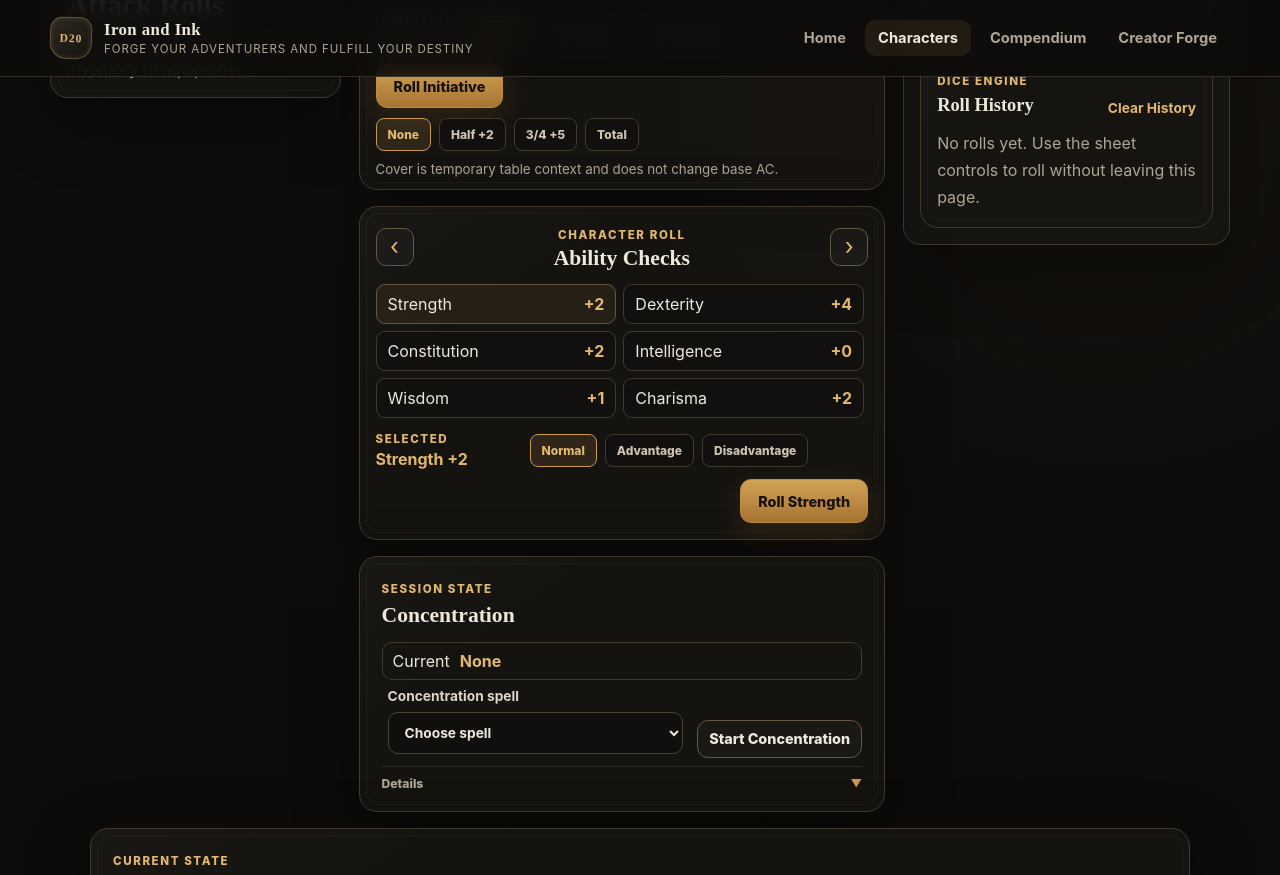
Test: PLAY UI stabilization checkpoint › K uses existing advantage keep-high behavior for Character Quick Roll
The image size is (1280, 875).
(page scrolled)
Click the button "Advantage": (649, 451) top-left (605, 434), bottom-right (694, 467)
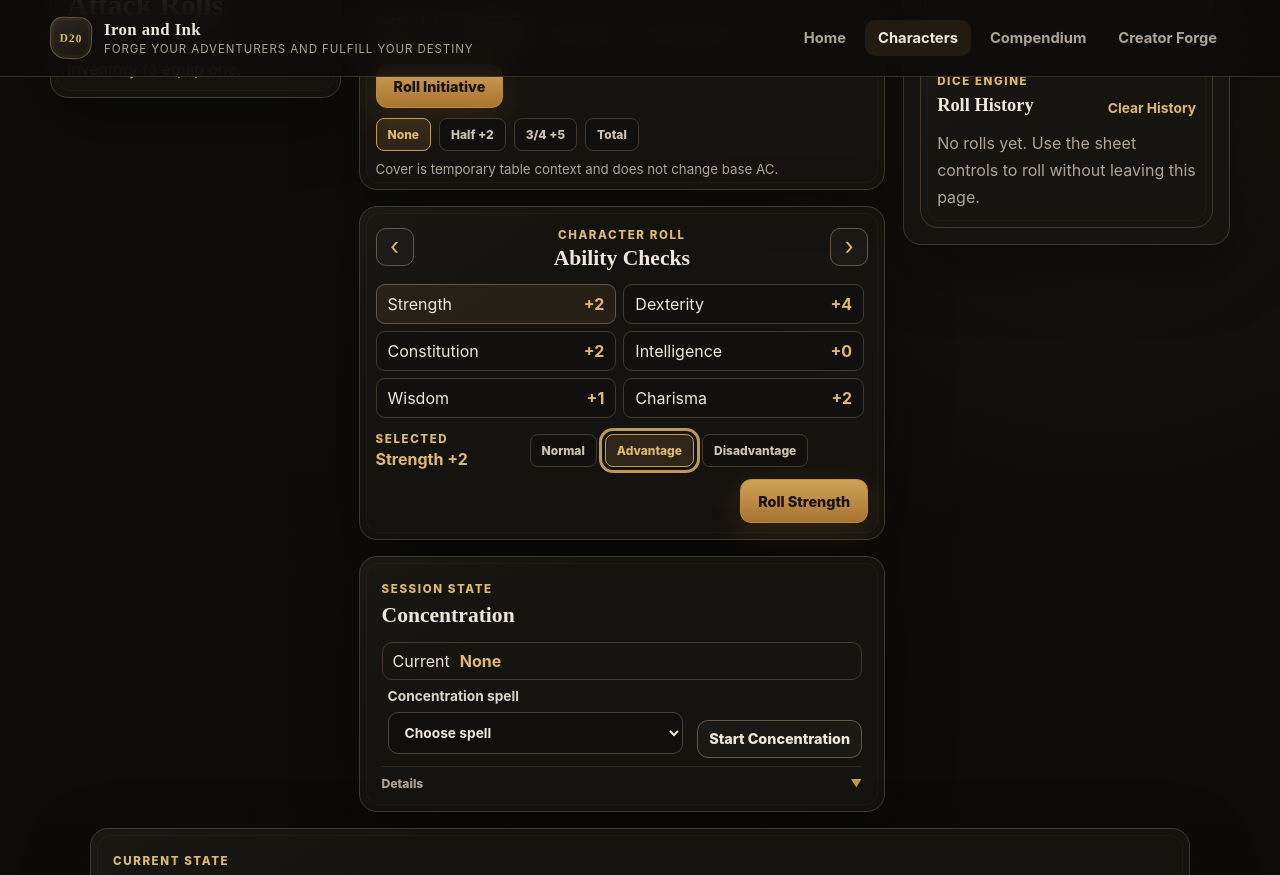
Click the button "Roll Strength": (804, 501) top-left (740, 479), bottom-right (868, 523)
(page scrolled)
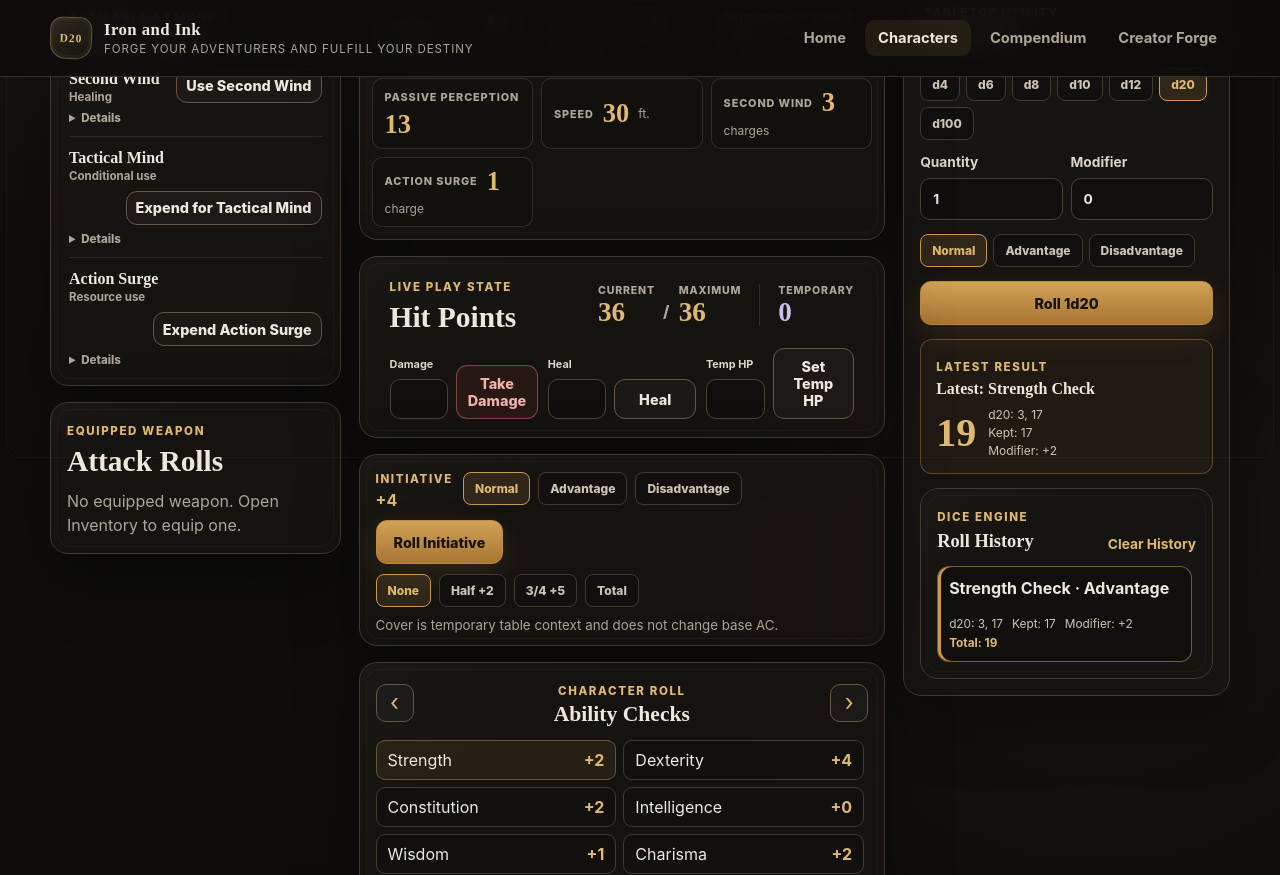
Result: the element "Latest: Strength Check" is shown at top-left (920, 339), bottom-right (1213, 474)
Result: the text "Kept: 17" below "Latest: Strength Check" is shown at top-left (988, 425), bottom-right (1032, 440)
Result: the text "Modifier: +2" below "Latest: Strength Check" is shown at top-left (988, 443), bottom-right (1057, 458)
